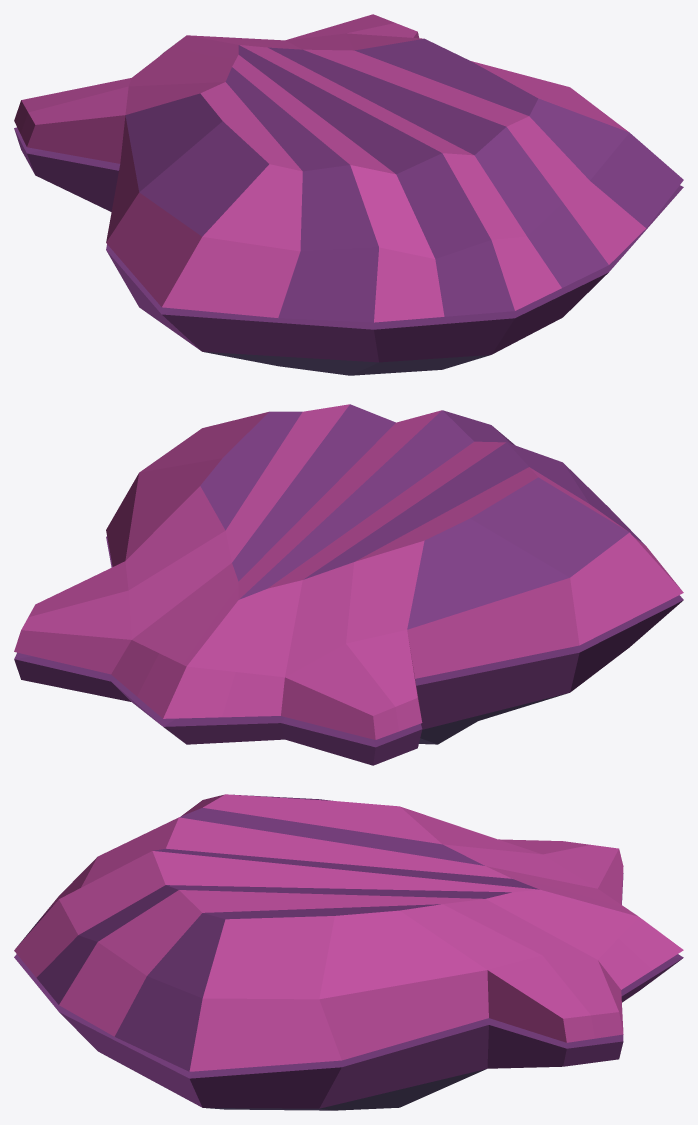
File: clam.fbx
3 renders of one model, top to bottom at view 1: azimuth 30°, elevation 25°; view 2: azimuth 150°, elevation 25°; view 3: azimuth 270°, elevation 25°, orthographic. The views are drawn at different scales.
Visible parts, largest first — view 1: Sphere.001, Sphere; view 2: Sphere.001, Sphere; view 3: Sphere.001, Sphere.
Boxes of the visible parts, x1=… form: Sphere.001: x1=14, y1=14, x2=683, y2=322; Sphere: x1=14, y1=127, x2=683, y2=375; Sphere.001: x1=14, y1=404, x2=683, y2=739; Sphere: x1=14, y1=536, x2=683, y2=765; Sphere.001: x1=14, y1=794, x2=683, y2=1071; Sphere: x1=14, y1=873, x2=683, y2=1110.
Size of the model in its own units: 267 by 106 by 312.
Materials: 3 (3 with a texture image).
